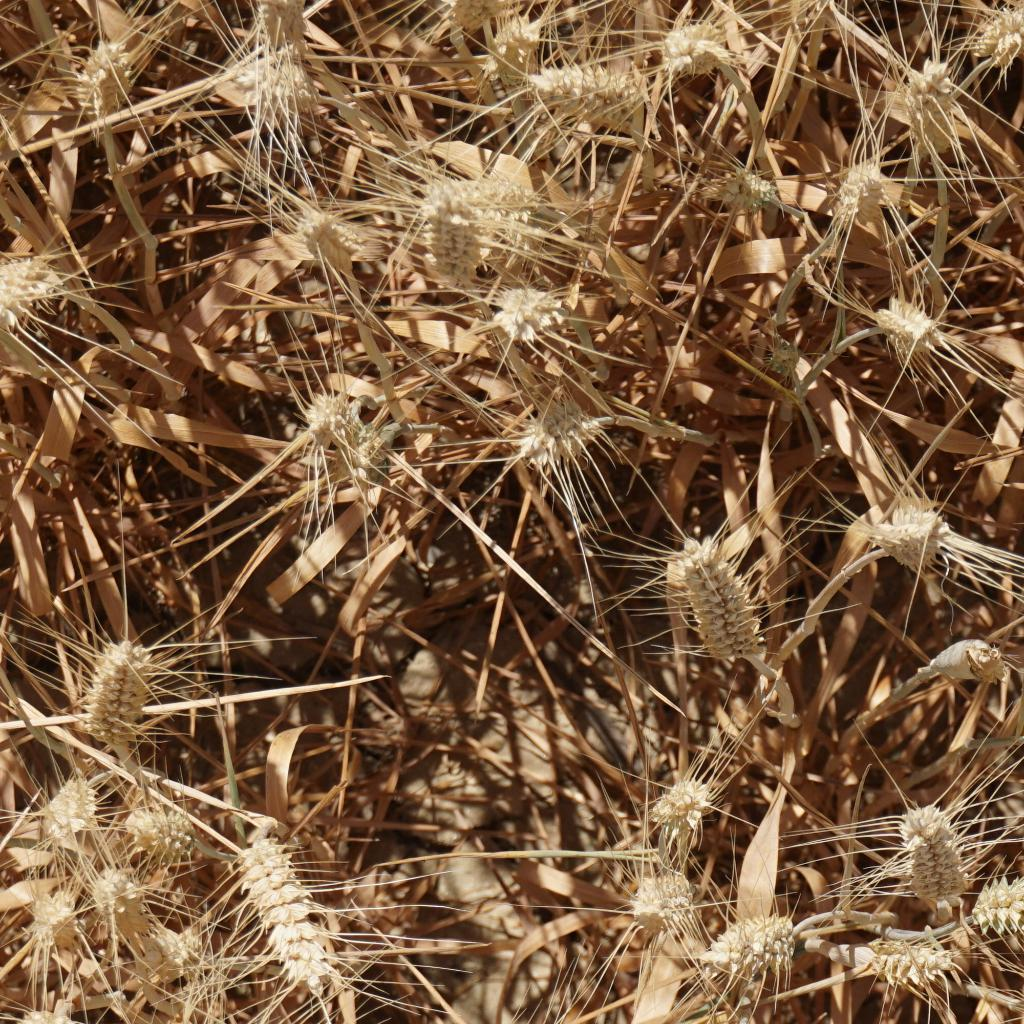0-0: (234, 826, 344, 986), (231, 0, 338, 121), (669, 531, 770, 659), (403, 157, 543, 240), (390, 185, 490, 283), (891, 801, 972, 909), (527, 65, 665, 128), (697, 889, 787, 982), (893, 47, 968, 153), (470, 13, 557, 100), (32, 756, 108, 855), (130, 918, 219, 1000), (301, 379, 377, 474), (516, 384, 590, 480), (852, 919, 949, 992), (476, 273, 561, 352), (860, 285, 947, 362), (874, 498, 953, 582), (289, 198, 360, 291), (88, 635, 153, 736), (637, 15, 734, 82), (62, 37, 139, 121), (0, 251, 78, 328), (225, 67, 331, 121), (835, 159, 905, 240), (21, 874, 86, 953), (644, 768, 712, 838), (121, 799, 193, 860), (622, 868, 685, 935), (963, 2, 1024, 70), (961, 868, 1024, 933), (74, 850, 141, 911), (748, 327, 809, 394), (734, 153, 791, 218), (427, 0, 503, 31), (964, 648, 1007, 697), (0, 998, 78, 1024), (171, 992, 222, 1024)
